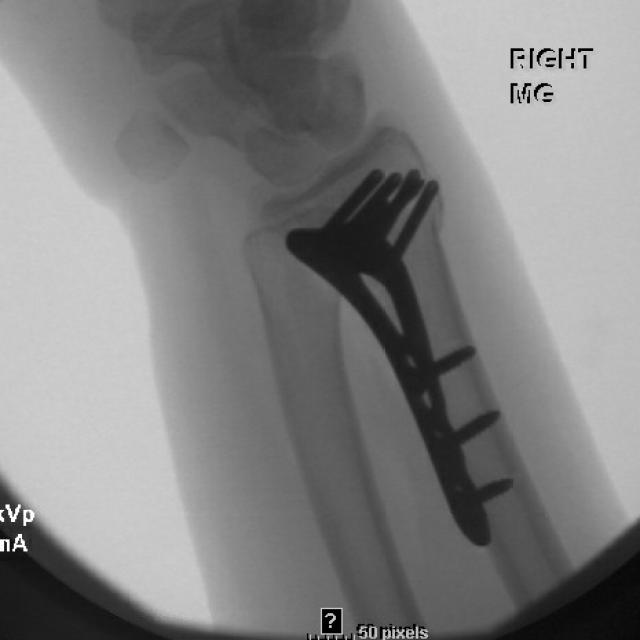x-ray: (272, 154, 532, 565)
